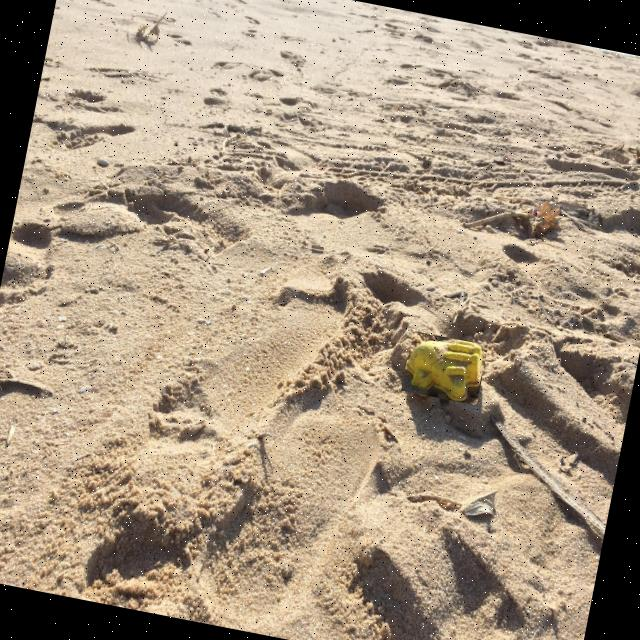Cigarette: (312, 247, 324, 251)
Other plastic bottle: (406, 341, 483, 402)
